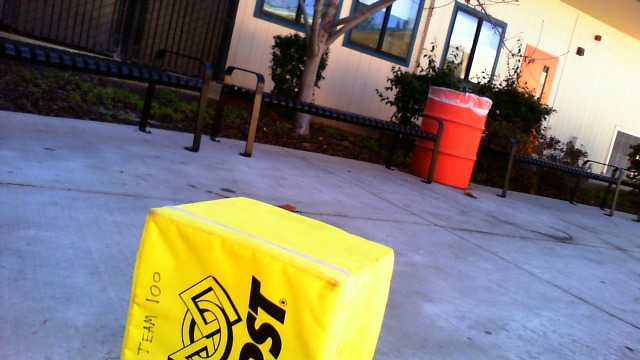cube: (108, 195, 395, 360)
